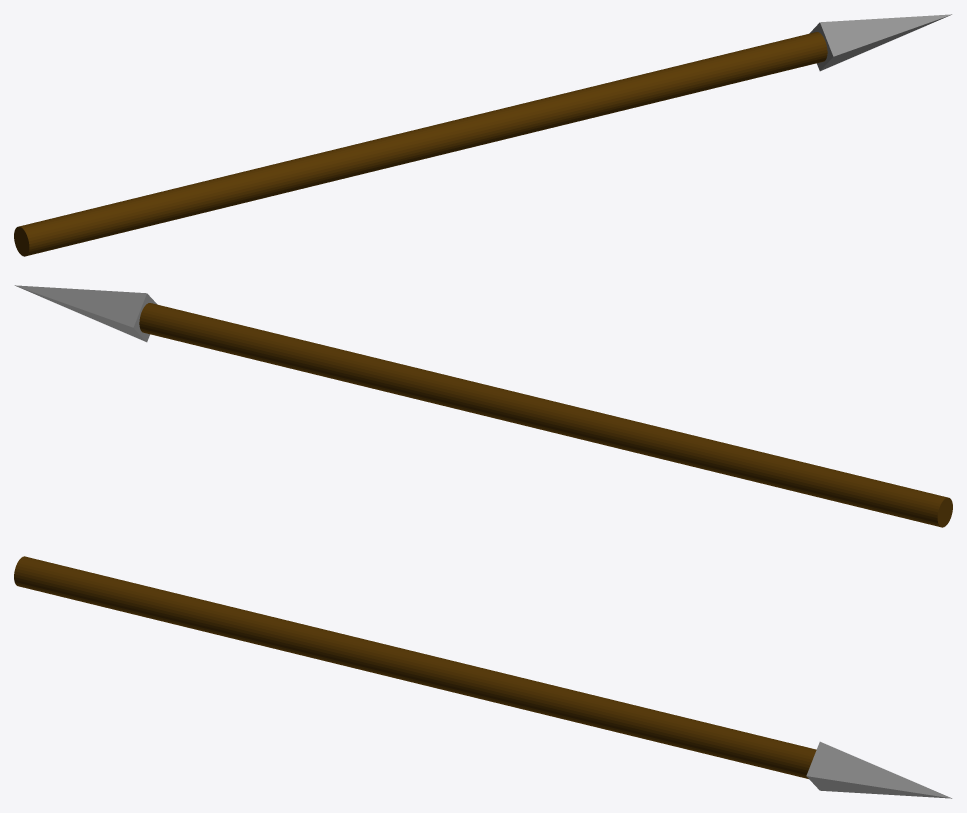
File: spear.fbx
3 renders of one model, top to bottom at view 1: azimuth 30°, elevation 25°; view 2: azimuth 150°, elevation 25°; view 3: azimuth 330°, elevation 25°, orthographic.
Parts seen in each view (by area): view 1: SpearShaft, SpearPoint; view 2: SpearShaft, SpearPoint; view 3: SpearShaft, SpearPoint.
Part boxes in pixels (box(x1,y1,x2,y2)): SpearShaft: box(14, 32, 827, 256); SpearPoint: box(809, 14, 952, 71); SpearShaft: box(139, 303, 952, 527); SpearPoint: box(14, 285, 157, 342); SpearShaft: box(14, 556, 816, 778); SpearPoint: box(806, 741, 952, 798).
Bounding box in the file's own units: 466 × 23.57 × 23.57.
